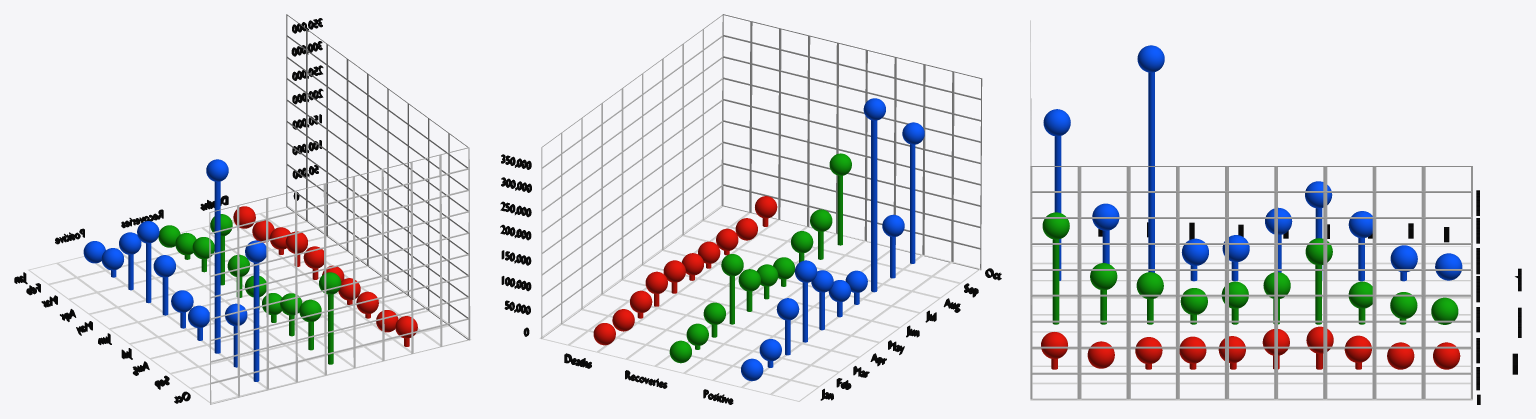
The model's file is Final-bubble-graph.fbx.
3 views of the same model, side by side, from view 1: azimuth 30°, elevation 25°; view 2: azimuth 150°, elevation 25°; view 3: azimuth 270°, elevation 25° (orthographic). The views are drawn at different scales.
Parts seen in each view (by area): view 1: Cylinder.001; view 2: Cylinder.001; view 3: Cylinder.001.
Boxes of the visible parts, bbox=[...] form: Cylinder.001: bbox=[14, 14, 471, 404]; Cylinder.001: bbox=[500, 14, 1001, 404]; Cylinder.001: bbox=[1030, 20, 1521, 404].
Size of the model in its own units: 4292 by 2466 by 4641.
